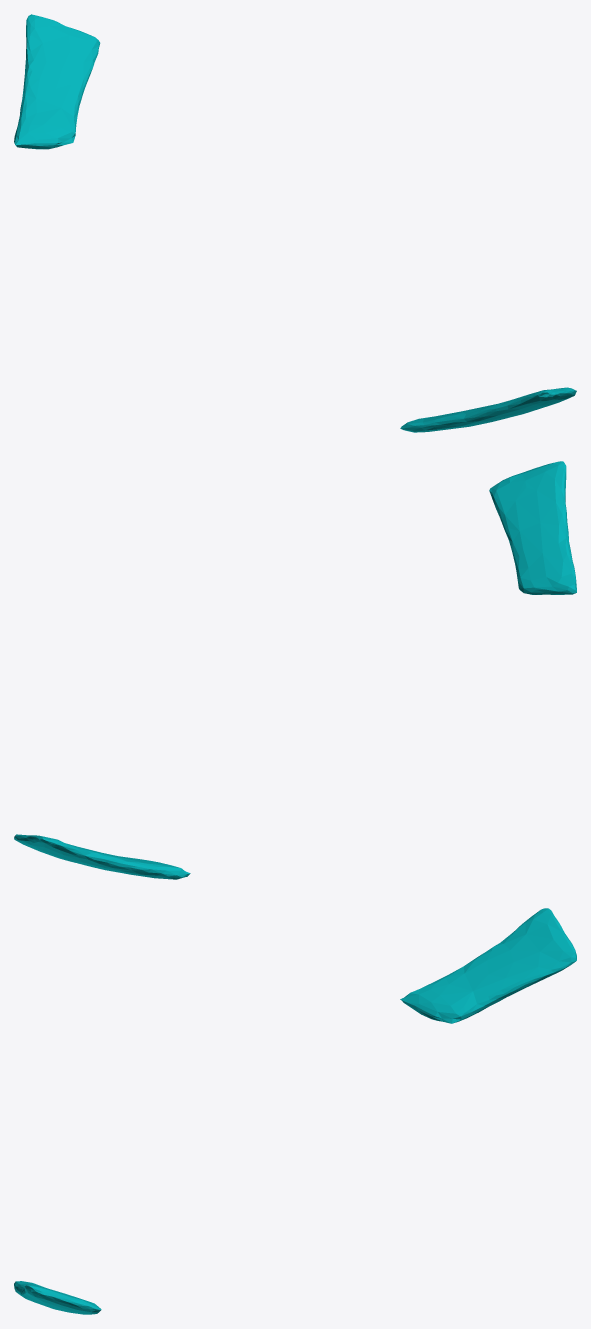
3 renders of one model, top to bottom at view 1: azimuth 30°, elevation 25°; view 2: azimuth 150°, elevation 25°; view 3: azimuth 330°, elevation 25°, orthographic.
Parts seen in each view (by area): view 1: 312782604.obj; view 2: 312782604.obj; view 3: 312782604.obj.
Boxes of the visible parts, x1=… form: 312782604.obj: x1=14, y1=14, x2=576, y2=432; 312782604.obj: x1=14, y1=461, x2=576, y2=879; 312782604.obj: x1=14, y1=908, x2=576, y2=1314.
Bounding box in the file's own units: 1114 × 605 × 7552.
